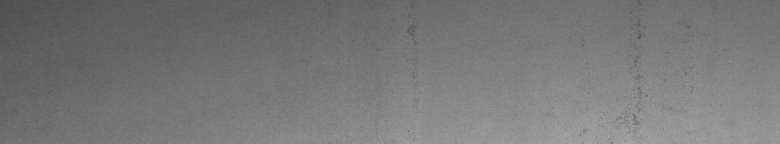ib: (580, 33, 692, 136)
